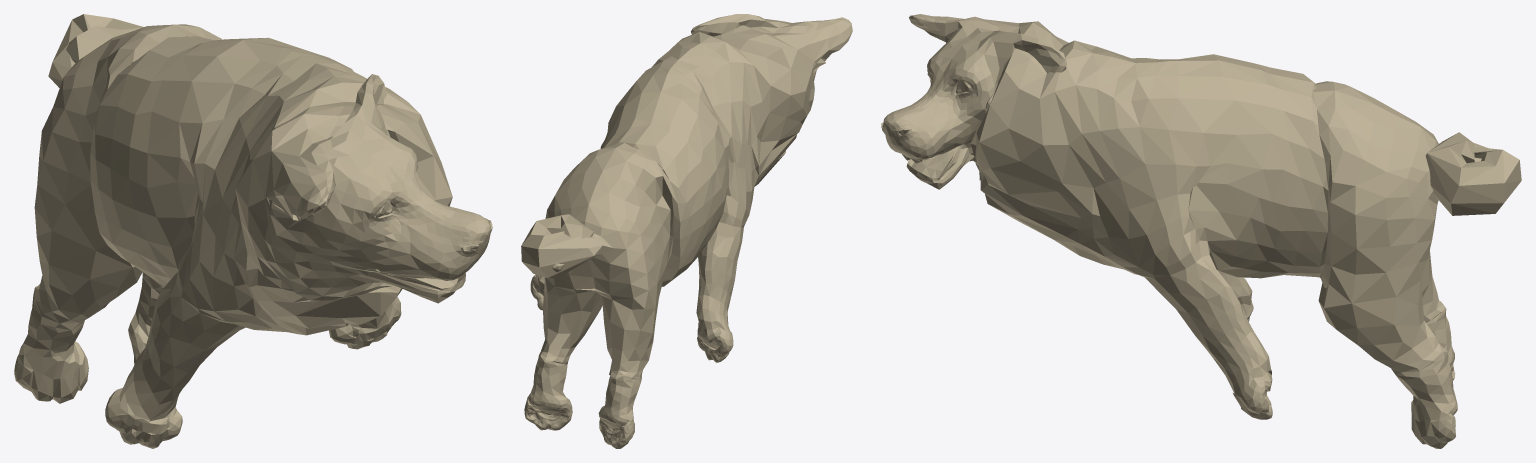
3 renders of one model, left to right at view 1: azimuth 30°, elevation 25°; view 2: azimuth 150°, elevation 25°; view 3: azimuth 270°, elevation 25°, orthographic. The views are drawn at different scales.
Parts seen in each view (by area): view 1: world; view 2: world; view 3: world.
Part boxes in pixels (x1,y1,x2,y2): world: (14,14,492,448); world: (521,14,852,448); world: (881,14,1521,448).
Size of the model in its own units: 0.5257 by 0.7912 by 1.16.
